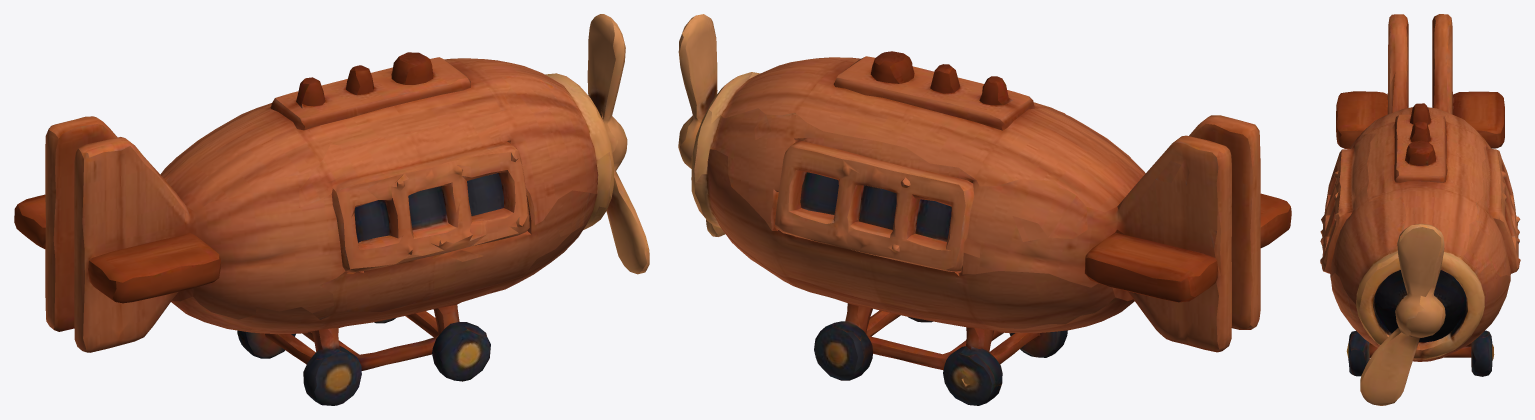
File: lg-airship.glb
3 views of the same model, side by side, from view 1: azimuth 30°, elevation 25°; view 2: azimuth 150°, elevation 25°; view 3: azimuth 270°, elevation 25° (orthographic). The views are drawn at different scales.
Visible parts, largest first — view 1: geometry_0; view 2: geometry_0; view 3: geometry_0.
Boxes of the visible parts, x1,y1,x2,y2 form: geometry_0: [14, 14, 649, 405]; geometry_0: [678, 14, 1291, 405]; geometry_0: [1320, 14, 1520, 405].
Size of the model in its own units: 1 by 0.5115 by 0.4053.
1 material, 1 textured.
